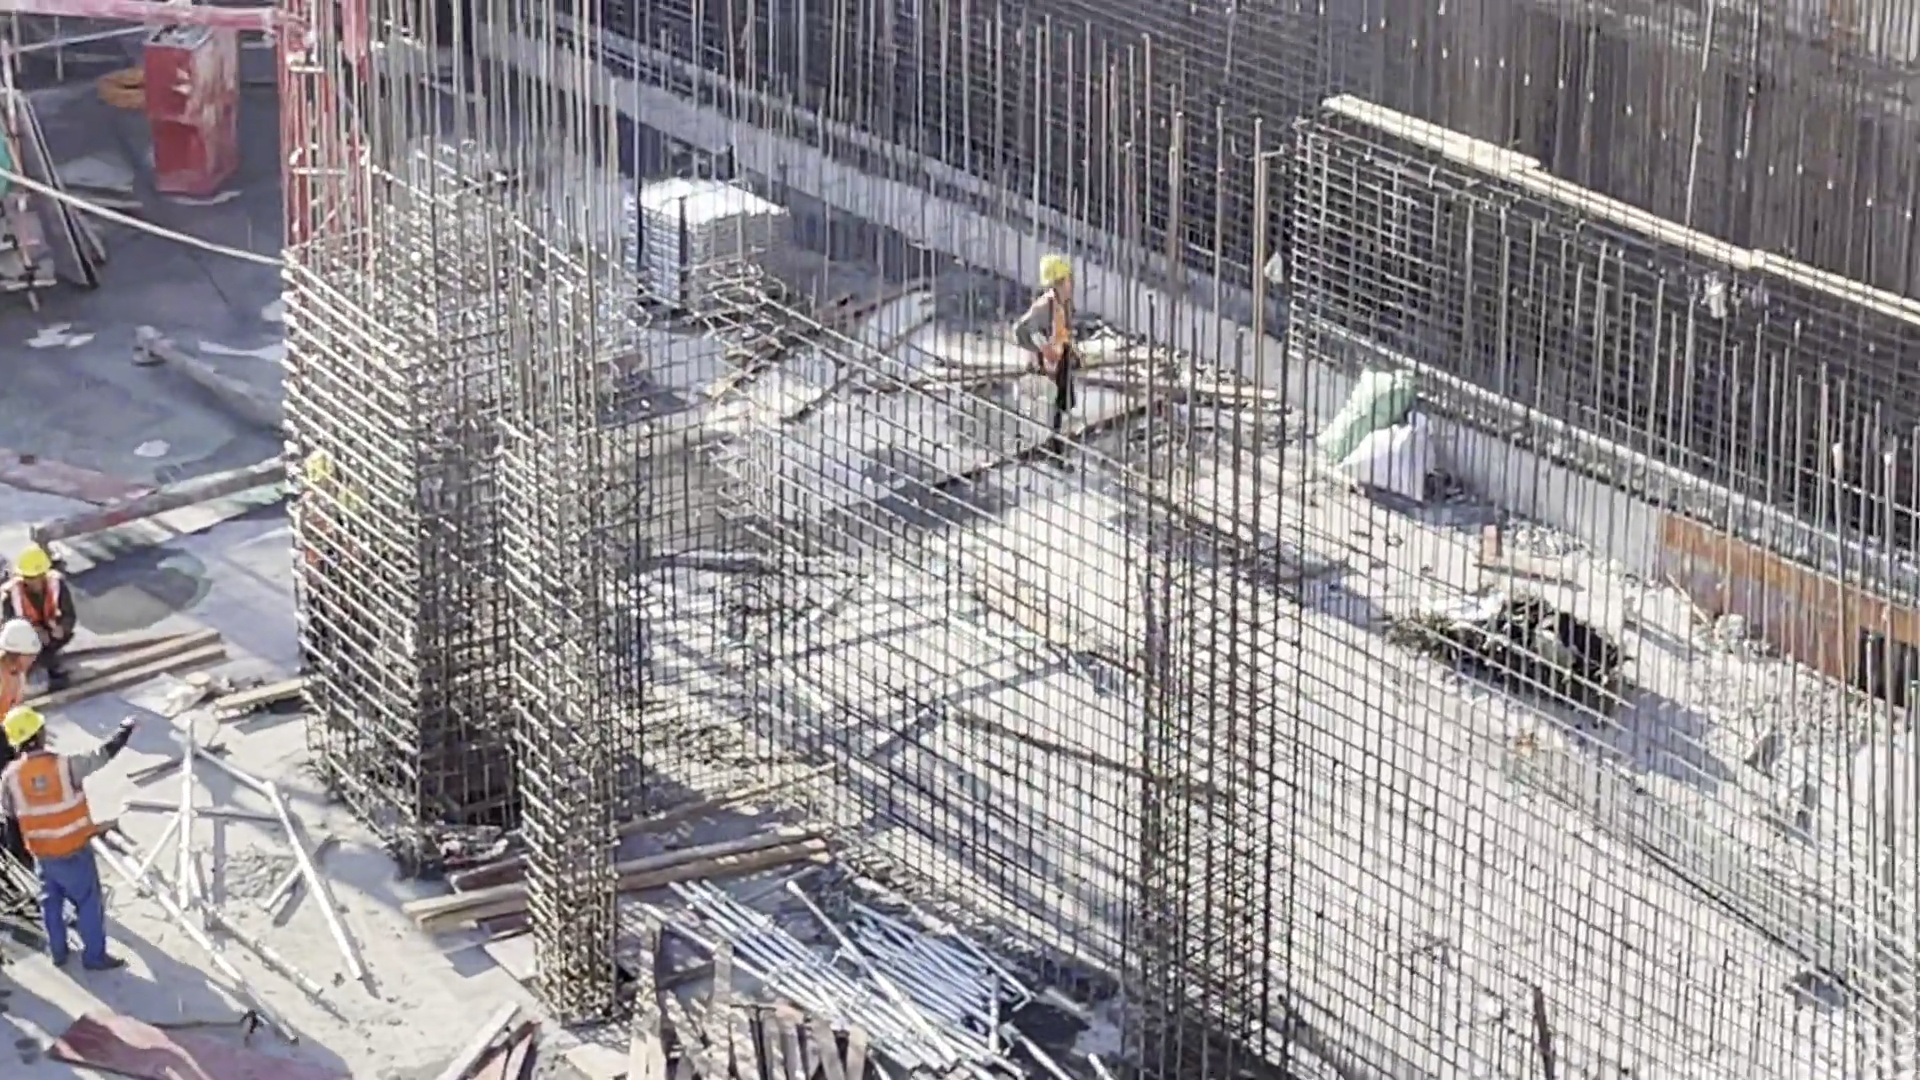helmet: (1, 698, 49, 752), (1030, 256, 1081, 287), (17, 541, 52, 576), (1, 624, 41, 654)
person: (1, 705, 111, 1008), (1014, 248, 1096, 476), (1, 541, 77, 700), (1, 623, 59, 717)
scaffold: (795, 888, 1014, 1080), (623, 171, 811, 336)
vest: (1, 756, 103, 848), (1033, 294, 1088, 368), (7, 576, 75, 632)
wood: (626, 970, 889, 1080)
